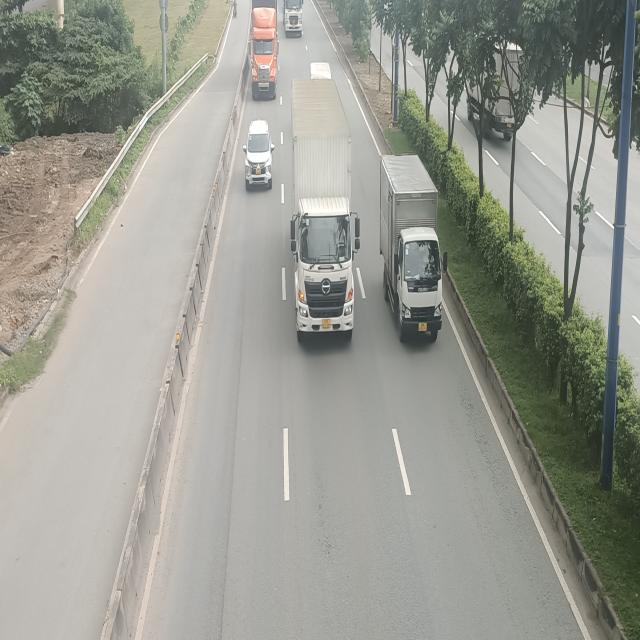car: (247, 120, 276, 190)
container: (289, 77, 362, 341), (250, 2, 280, 100)
truck: (379, 152, 449, 339), (282, 0, 303, 36)
